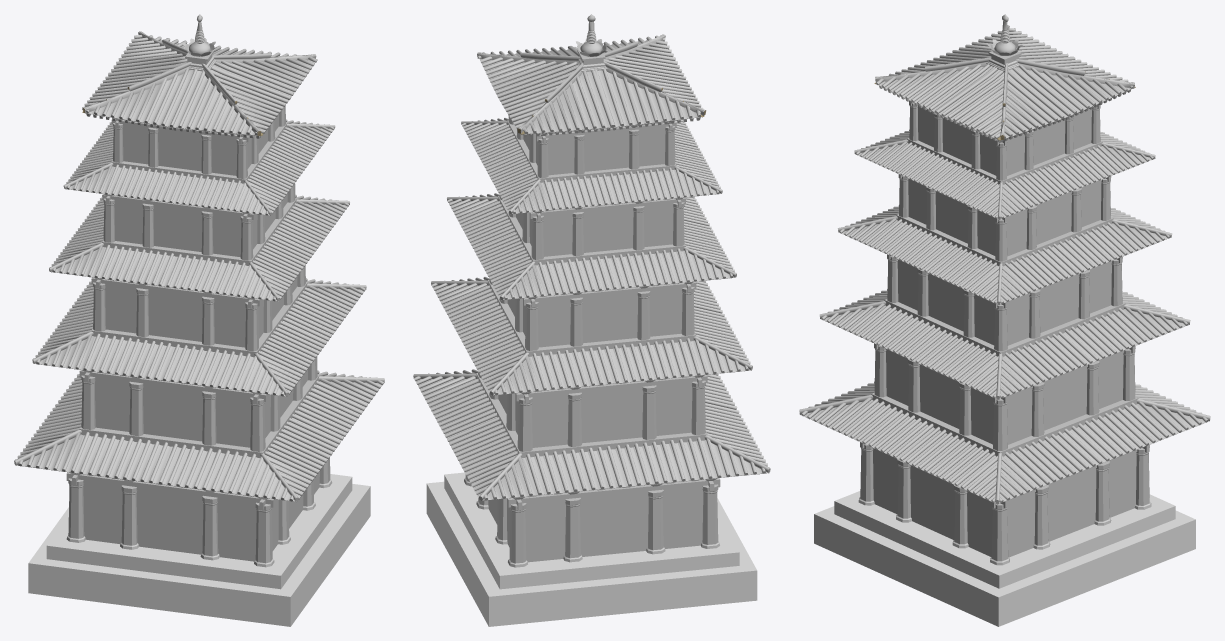
File: White pagoda.fbx
3 renders of one model, left to right at view 1: azimuth 30°, elevation 25°; view 2: azimuth 150°, elevation 25°; view 3: azimuth 270°, elevation 25°, orthographic.
Visible parts, largest first — view 1: Cylinder1308, Object1901, base, Line309; view 2: Cylinder1308, Object1901, base, Line309; view 3: Cylinder1308, Object1901, base, Line309.
Boxes of the visible parts, x1,y1,x2,y2 form: Cylinder1308: [15, 35, 383, 501]; Object1901: [66, 105, 332, 567]; base: [28, 474, 370, 626]; Line309: [14, 14, 384, 509]; Cylinder1308: [414, 35, 769, 500]; Object1901: [464, 116, 719, 567]; base: [426, 472, 757, 626]; Line309: [413, 14, 770, 509]; Cylinder1308: [800, 28, 1209, 504]; Object1901: [858, 103, 1151, 565]; base: [814, 491, 1195, 626]; Line309: [799, 14, 1210, 508].
Size of the model in its own units: 1452 by 2072 by 1452.
